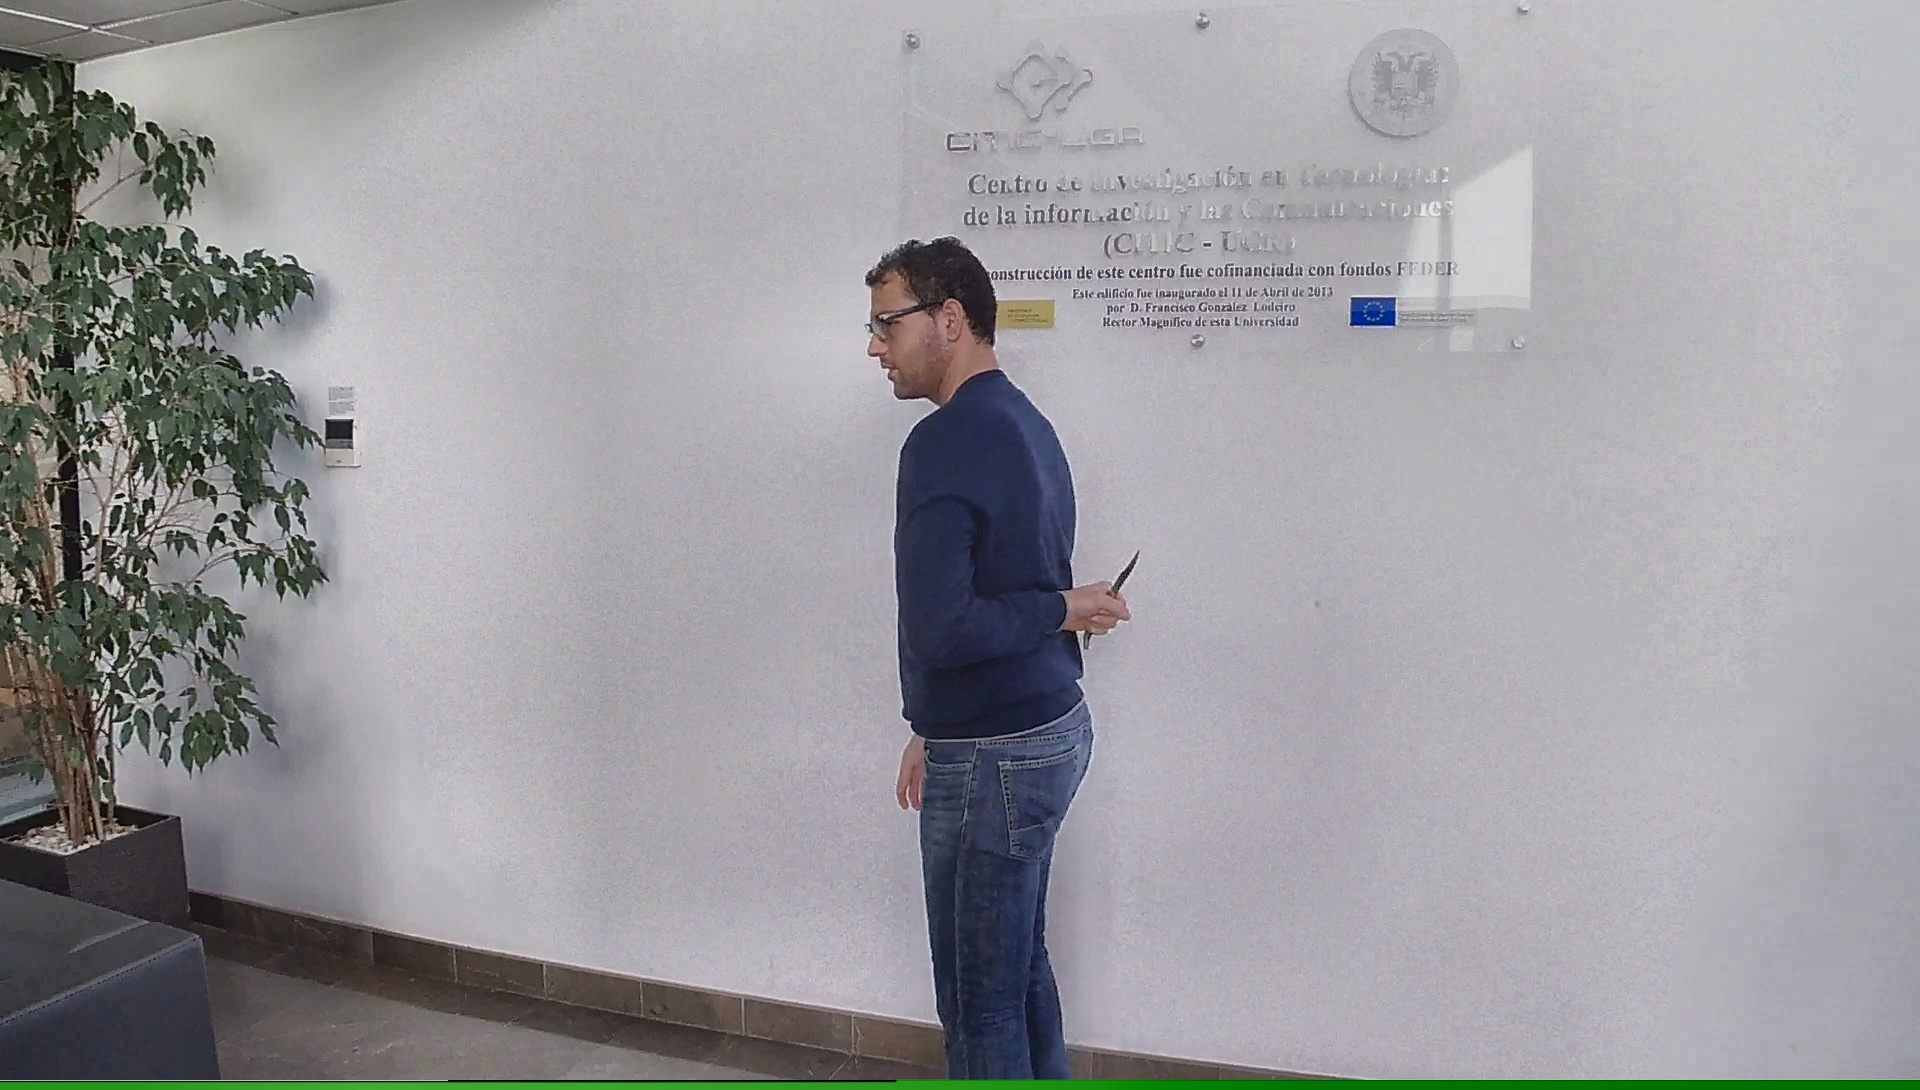knife: (1076, 539, 1149, 658)
